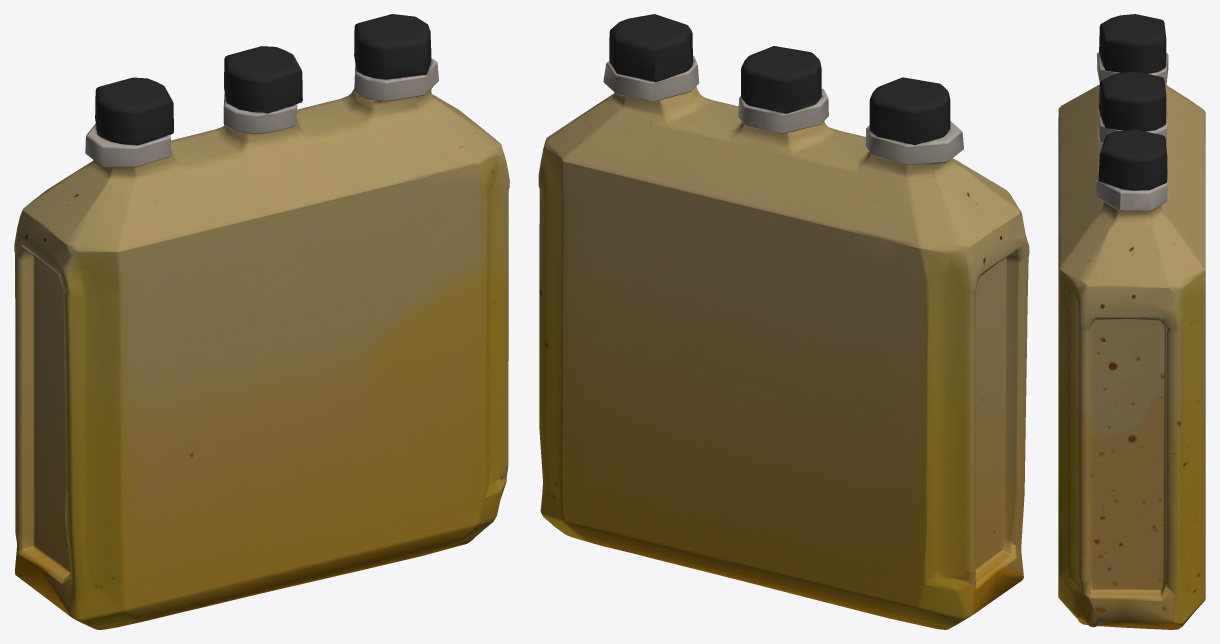
File: oil-rot.glb
3 renders of one model, left to right at view 1: azimuth 30°, elevation 25°; view 2: azimuth 150°, elevation 25°; view 3: azimuth 270°, elevation 25°, orthographic. The views are drawn at different scales.
Visible parts, largest first — view 1: tripo_node_96ee49d7-0df6-481a-8a7c-03c70f26e8e3; view 2: tripo_node_96ee49d7-0df6-481a-8a7c-03c70f26e8e3; view 3: tripo_node_96ee49d7-0df6-481a-8a7c-03c70f26e8e3.
Boxes of the visible parts, <box> form: tripo_node_96ee49d7-0df6-481a-8a7c-03c70f26e8e3: <box>14,14,509,629</box>; tripo_node_96ee49d7-0df6-481a-8a7c-03c70f26e8e3: <box>538,14,1029,629</box>; tripo_node_96ee49d7-0df6-481a-8a7c-03c70f26e8e3: <box>1058,14,1205,629</box>.
Bounding box in the file's own units: 0.9136 × 0.9995 × 0.2896.
Materials: 1 (1 with a texture image).
